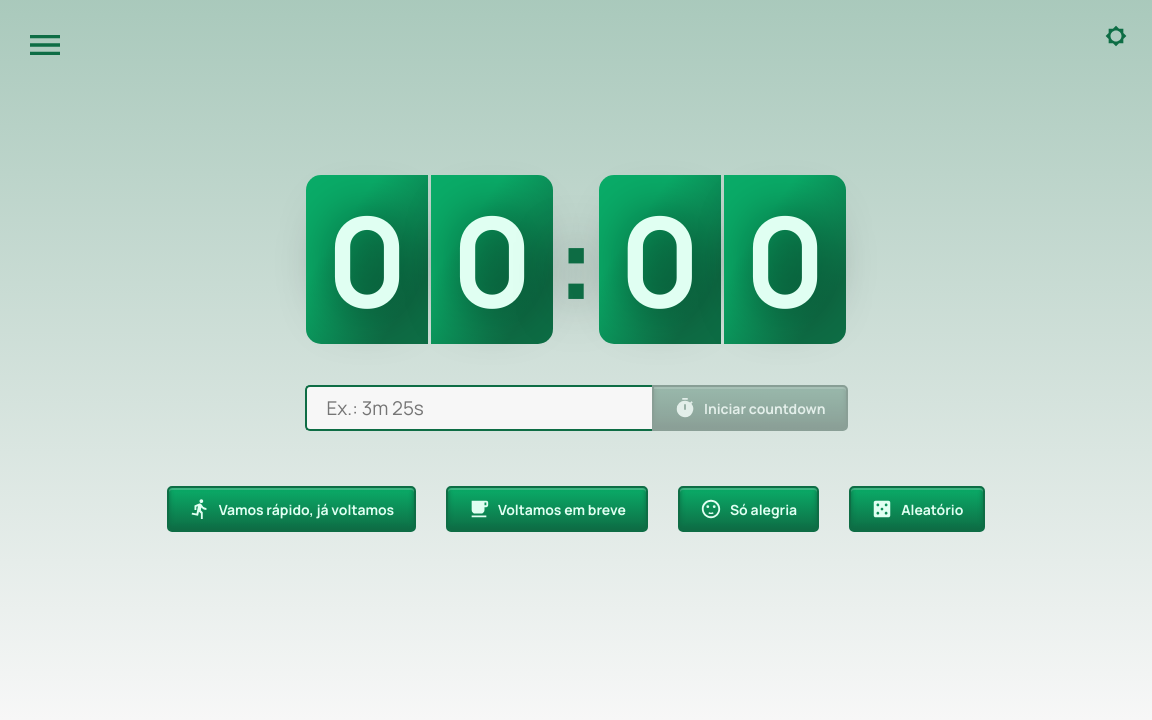
Scenario: Countdown › show message when countdown hits zero and user can go back
The width and height of the screenshot is (1152, 720).
Type "2s" into the field with placeholder "Ex.: 3m 25s".
click(478, 408); type("2s")  # box [304, 385, 652, 431]
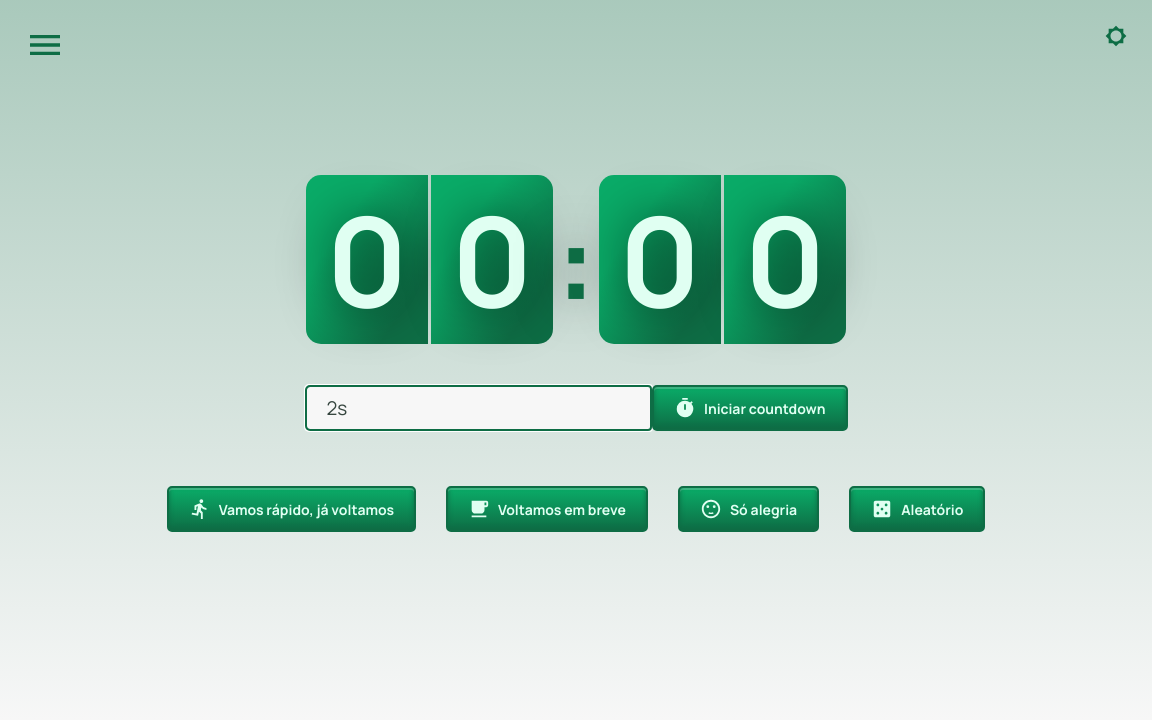
Now the button "Iniciar countdown" is enabled
Click the button "Iniciar countdown".
click(750, 408)  # box [652, 385, 848, 431]
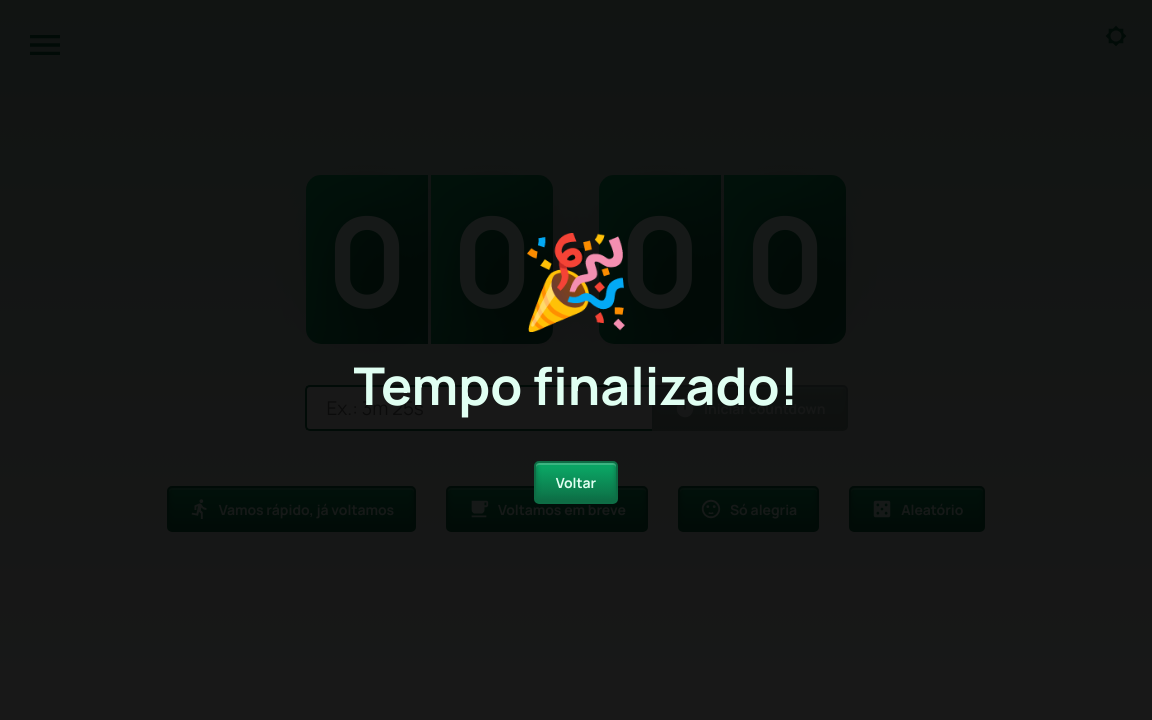
Now the element with test id "countdownEndMessage" is shown
Now the button "Voltar" is shown
Click the button "Voltar".
click(576, 482)  # box [534, 460, 618, 504]
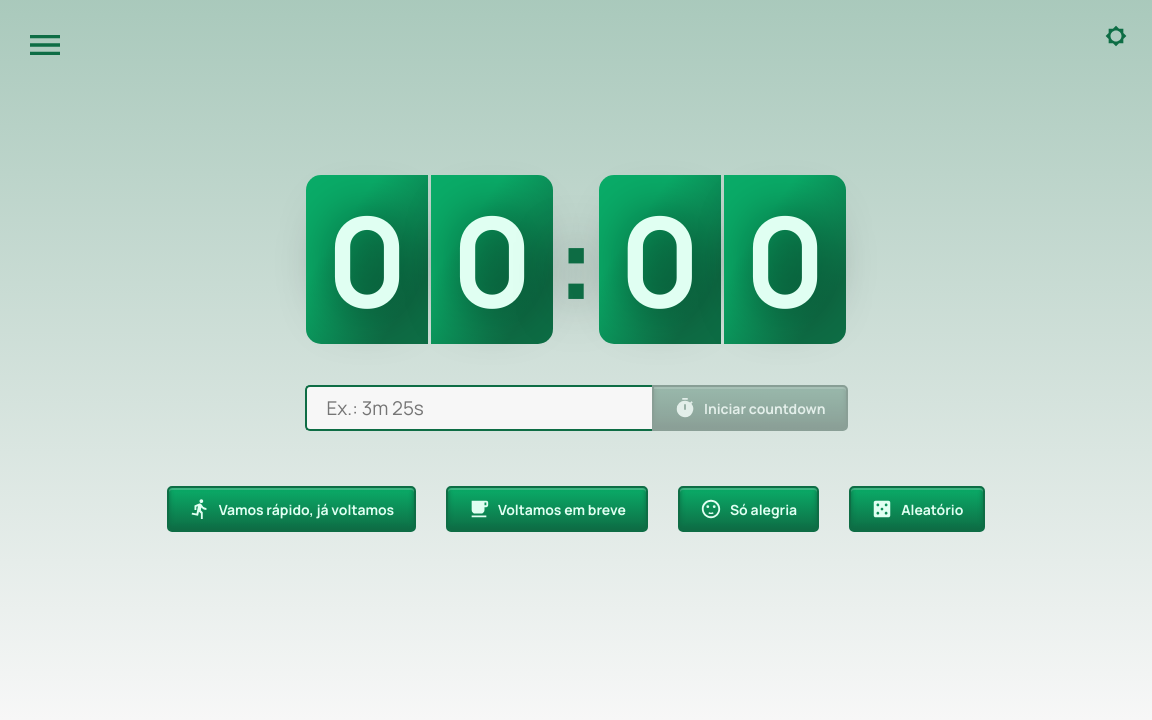
Now the element with test id "countdownEndMessage" is gone
